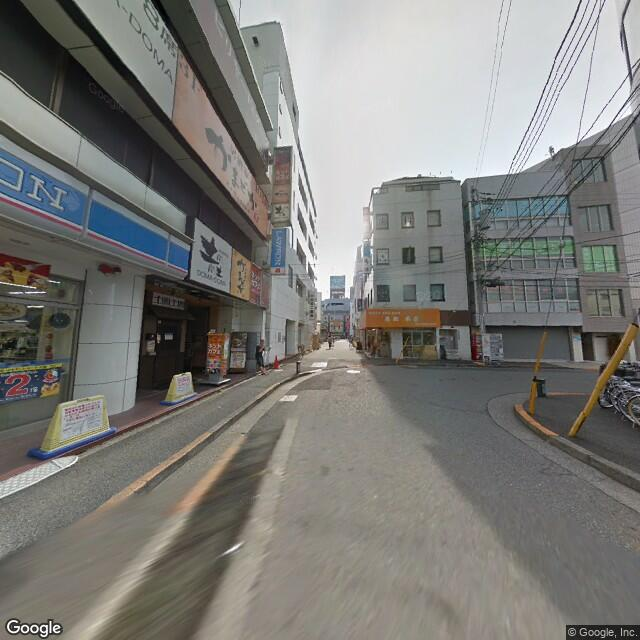lawson: (1, 133, 188, 286), (268, 222, 291, 273)
